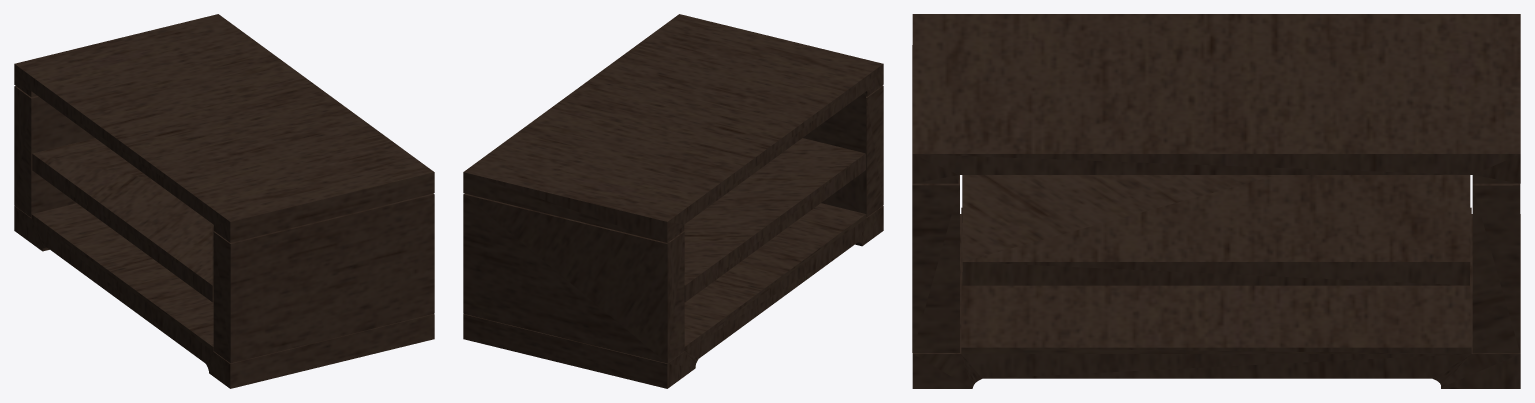
Rendered from cabinet.glb.
3 renders of one model, left to right at view 1: azimuth 30°, elevation 25°; view 2: azimuth 150°, elevation 25°; view 3: azimuth 270°, elevation 25°, orthographic. The views are drawn at different scales.
Visible parts, largest first — view 1: Open Cabinet; view 2: Open Cabinet; view 3: Open Cabinet.
Boxes of the visible parts, x1,y1,x2,y2 form: Open Cabinet: (14, 14, 434, 388); Open Cabinet: (463, 14, 883, 388); Open Cabinet: (912, 14, 1520, 388).
Bounding box in the file's own units: 0.6416 × 0.5016 × 1.18.
Materials: 1 (1 with a texture image).
